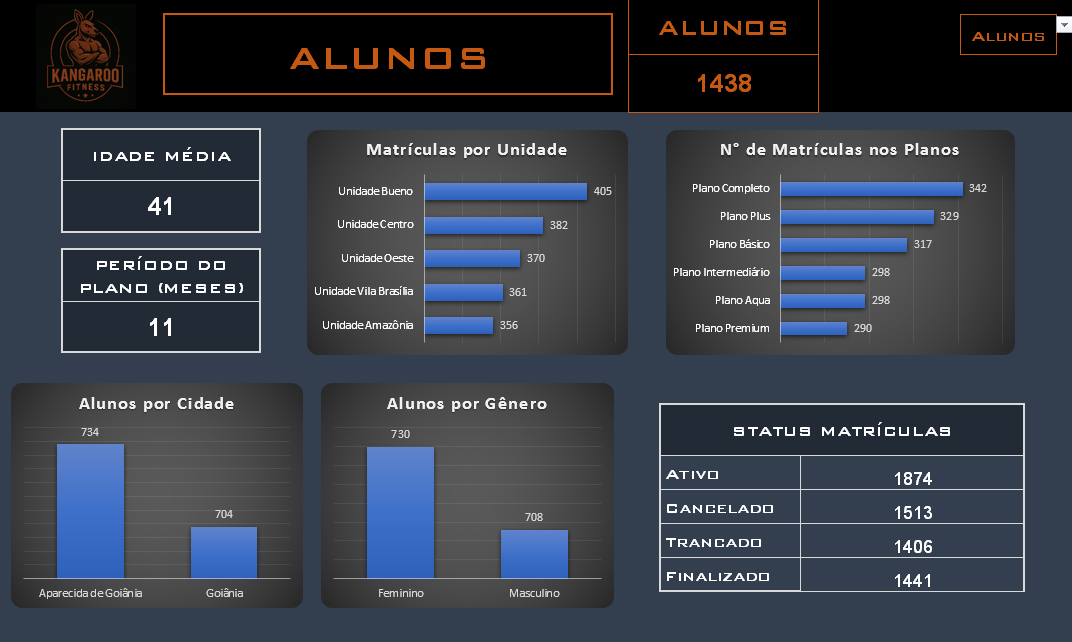

The dashboard page shown, as its layout file describes it:
{"tool":"powerbi","page":{"name":"Alunos","canvas":[1280,720],"ordinal":3},"visuals":[{"type":"shape","box":[22.9,9.2,580,150],"z":0,"group":"g1"},{"type":"clusteredBarChart","title":"Matrículas por Unidade","fields":{"Category":["fat_Unidade.Nome"],"Y":["0_Medidas.N_Mat_Ativas"]},"box":[397.1,168.5,400,258.6],"z":0},{"type":"textbox","box":[30.8,45.4,564.5,77.5],"z":1000,"group":"g1"},{"type":"clusteredBarChart","title":"Matrículas por Unidade","fields":{"Category":["fat_Unidade.Nome"],"Y":["0_Medidas.N_Mat_Ativas"]},"box":[835.7,167.8,400,260],"z":1000},{"type":"clusteredColumnChart","title":"Alunos por Gênero","fields":{"Y":["0_Medidas.N_Alunos_Ativos"],"Category":["dim_Clientes.Genero"]},"box":[834.3,446,400,260],"z":2000},{"type":"clusteredColumnChart","title":"Faixa Etária dos Alunos","fields":{"Y":["0_Medidas.N_Alunos"],"Category":["dim_Clientes.Faixa_Idade"]},"box":[397,446,400,260],"z":3000},{"type":"tableEx","title":"Status Matrículas","fields":{"Values":["fat_matriculas.Status","0_Medidas.N_Matriculas"]},"box":[37.3,465,329,223],"z":4000},{"type":"card","title":"Idade Média","fields":{"Values":["0_Medidas.Id_Med_Alunos"]},"box":[876.2,21,190,125],"z":5000},{"type":"card","title":"Alunos em Atividade","fields":{"Values":["0_Medidas.N_Cliente"]},"box":[621,21,225,125],"z":6000},{"type":"actionButton","box":[1160,52.5,62.5,61.2],"z":7000},{"type":"group","id":"g1","title":"Grupo 1","box":[22.9,9.2,580,150],"z":8000},{"type":"tableEx","title":"Status Alunos","fields":{"Values":["dim_Clientes.Status","0_Medidas.N_Alunos"]},"box":[56.3,185.3,291,226],"z":9000}]}

Visuals, with their boxes on the page's 1280x720 design canvas (x1, y1, x2, y2). These are canvas units, not pixel positions in the 1072x642 screenshot, which may show the page scaled, cropped or inside an application window:
shape: [23, 9, 603, 159]
"Matrículas por Unidade" clusteredBarChart: [397, 168, 797, 427]
textbox: [31, 45, 595, 123]
"Matrículas por Unidade" clusteredBarChart: [836, 168, 1236, 428]
"Alunos por Gênero" clusteredColumnChart: [834, 446, 1234, 706]
"Faixa Etária dos Alunos" clusteredColumnChart: [397, 446, 797, 706]
"Status Matrículas" tableEx: [37, 465, 366, 688]
"Idade Média" card: [876, 21, 1066, 146]
"Alunos em Atividade" card: [621, 21, 846, 146]
actionButton: [1160, 52, 1222, 114]
"Grupo 1" group: [23, 9, 603, 159]
"Status Alunos" tableEx: [56, 185, 347, 411]
